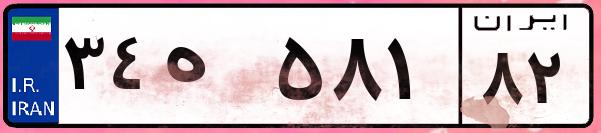1: (385, 28, 445, 110)
2: (525, 38, 570, 115)
3: (57, 26, 110, 100)
4: (110, 28, 158, 98)
5: (270, 28, 330, 110)
8: (330, 28, 385, 110), (475, 38, 525, 113)
ه: (158, 20, 270, 120)
